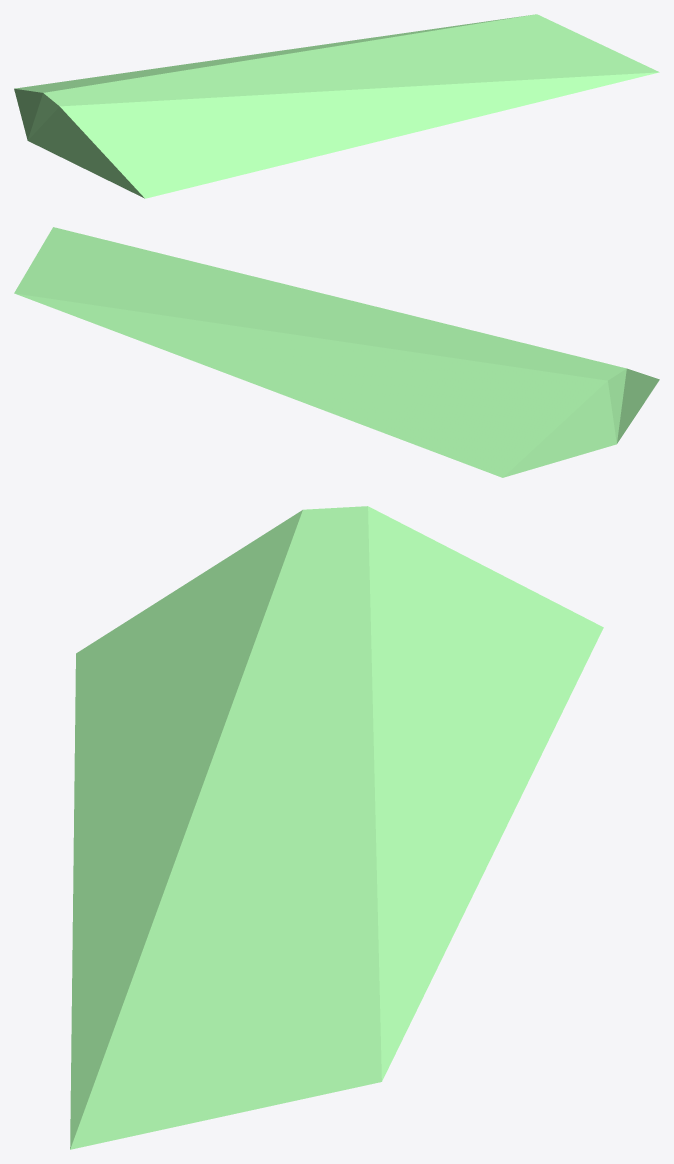
The model's file is UMIRobot_UMIRobot_link_5_convex_coll_79.dae.
3 renders of one model, top to bottom at view 1: azimuth 30°, elevation 25°; view 2: azimuth 150°, elevation 25°; view 3: azimuth 270°, elevation 25°, orthographic. The views are drawn at different scales.
Parts seen in each view (by area): view 1: node; view 2: node; view 3: node.
Boxes of the visible parts, x1,y1,x2,y2 form: node: (14,14,659,198); node: (14,227,659,477); node: (70,506,603,1149).
Size of the model in its own units: 0.0295 by 0.00303 by 0.0123.
